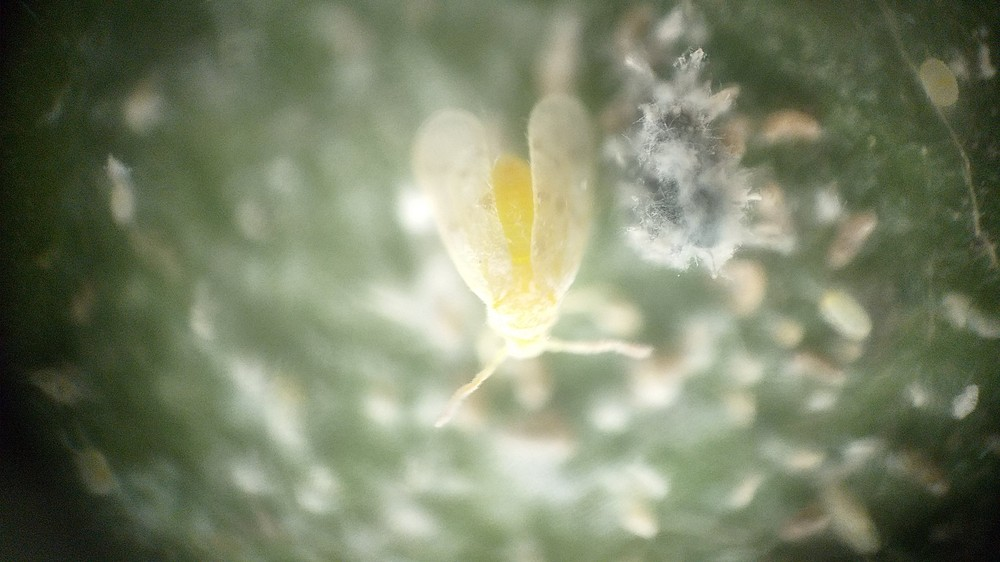Mosca Blanca: (371, 74, 681, 442)
